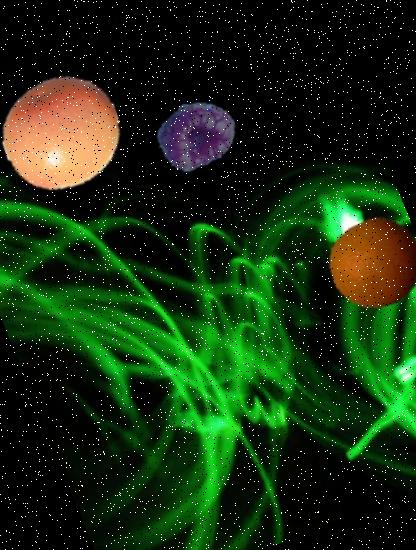Grapefruit: (0, 54, 139, 209)
Orange: (316, 203, 416, 324)
Raspberry: (145, 83, 250, 188)
